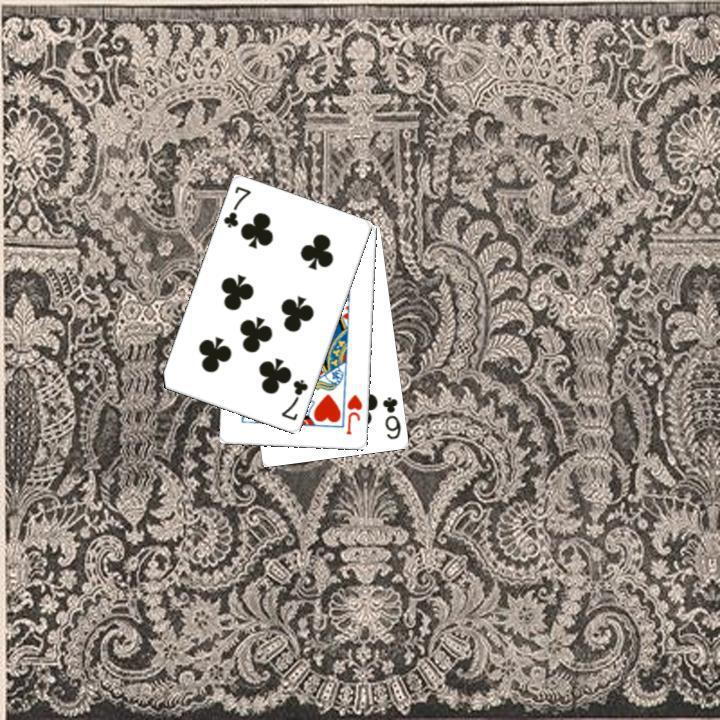6: (378, 393, 403, 442)
7: (219, 182, 253, 230), (277, 375, 310, 423)
J: (342, 390, 364, 437)
